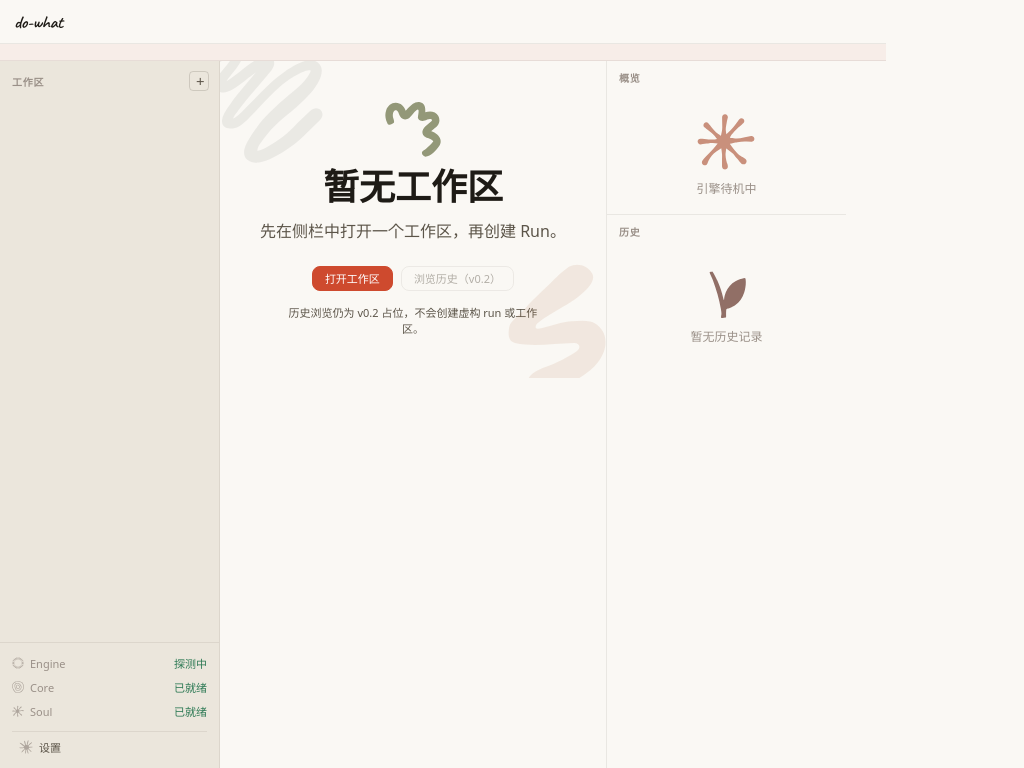
Test: AppRoot scaffold › opens a workspace from the empty state and syncs the sidebar tree
The width and height of the screenshot is (1024, 768).
What coordinates should you click on to do the following:
click the button "打开工作区"
I would click on:
 (352, 278)
Its box is [312,266,393,291].
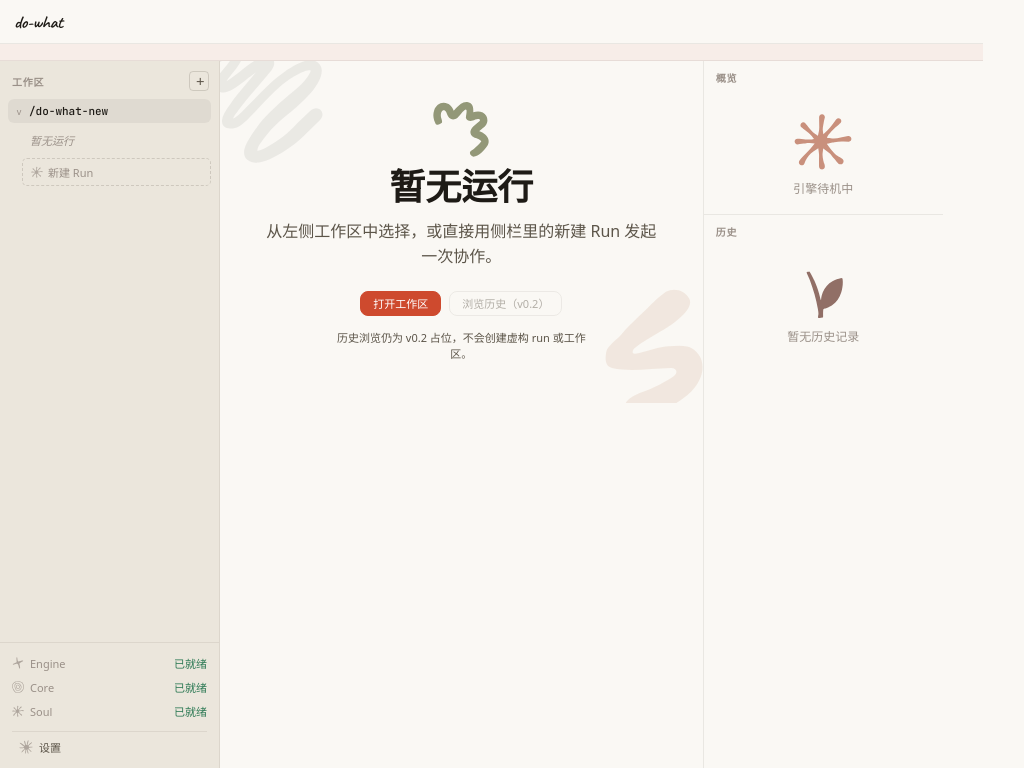
Result: the text "/do-what-new" is shown at [29,104,108,118]
Result: the text "暂无运行" is shown at [30,133,74,148]
